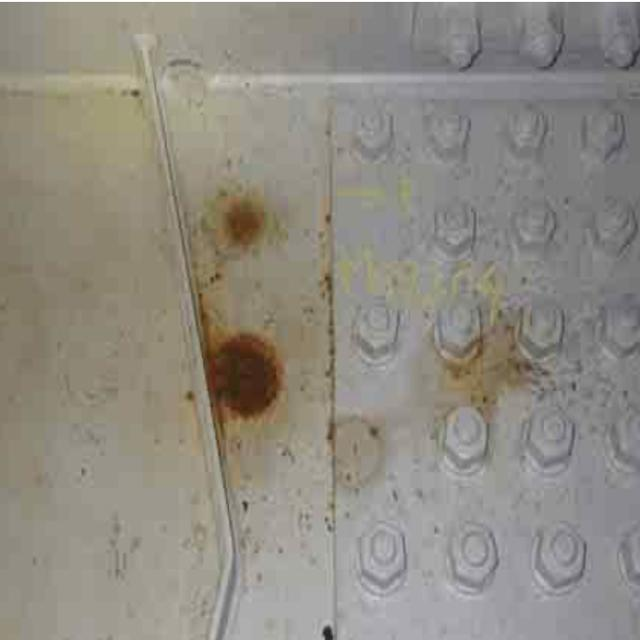corrosion: (183, 202, 311, 432)
